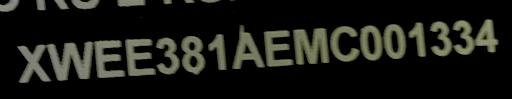letter: (42, 37, 98, 82), (12, 42, 56, 87), (290, 25, 332, 68), (120, 35, 160, 78), (228, 29, 268, 70), (260, 24, 296, 69), (176, 33, 212, 78), (92, 37, 128, 82), (326, 24, 364, 63), (152, 33, 182, 80), (472, 13, 502, 56), (356, 21, 386, 64), (427, 18, 457, 59), (380, 21, 410, 62), (205, 30, 233, 73), (449, 16, 477, 55), (406, 19, 430, 62)
